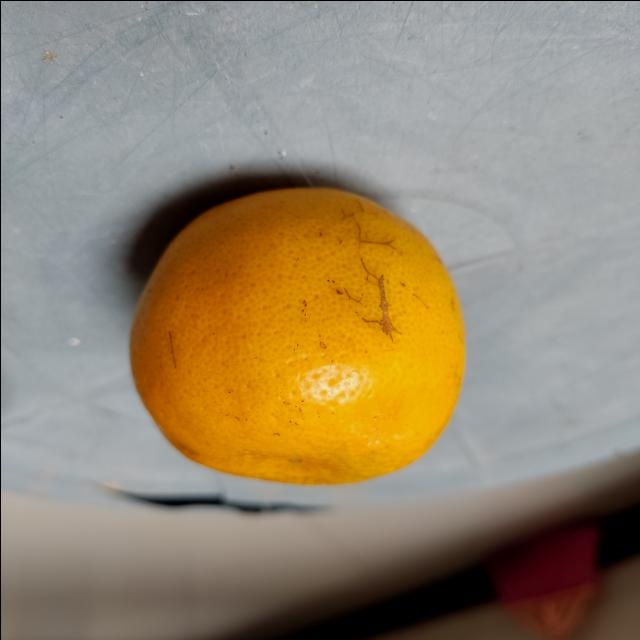agrume: (125, 184, 471, 488)
